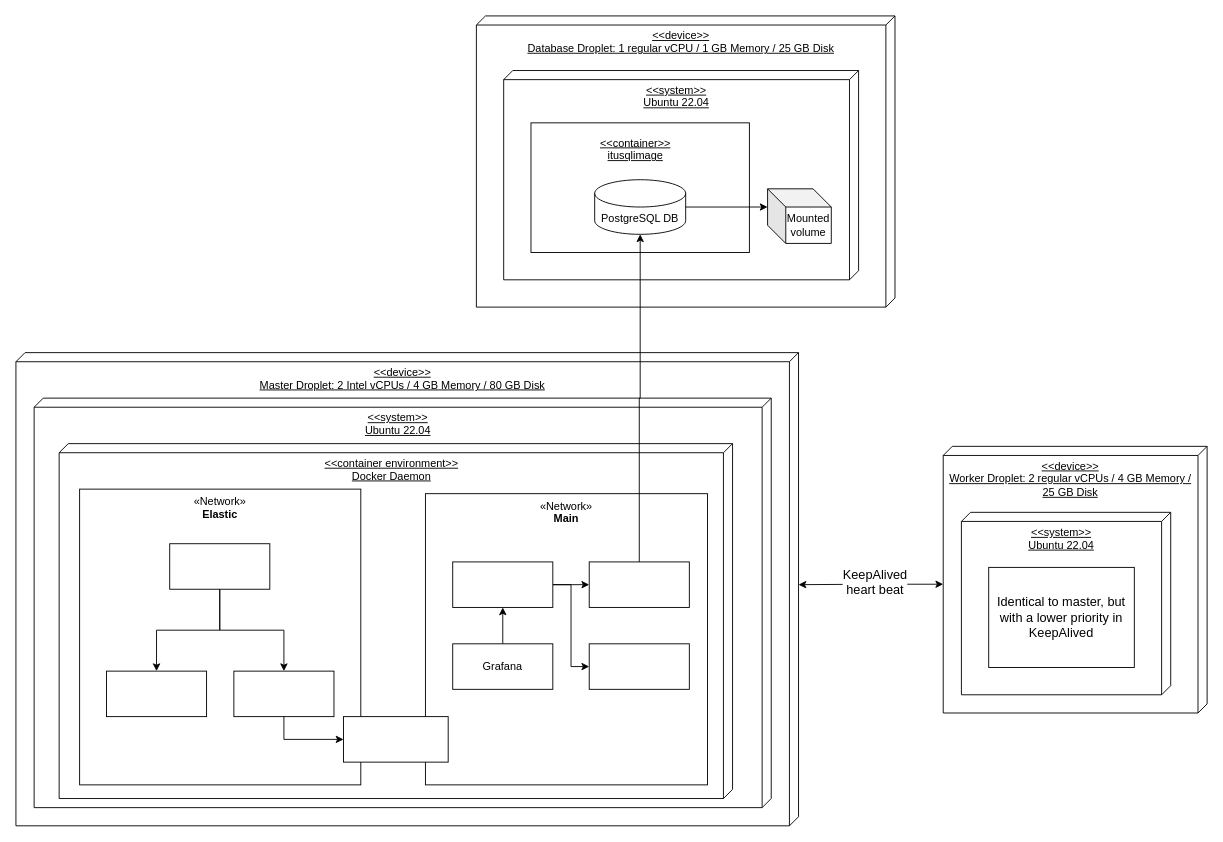
Some shapes in this 1223 by 842 pixel diagram are drawn without their labels. The shapes that lost their labels are listed below. From the top down, each one's centre as x and y in pixels, then its label:
pixel 219 566: Kibana
pixel 502 584: Prometheus
pixel 638 584: Minitwit
pixel 638 666: Cadvisor
pixel 156 693: Kibana-Importer
pixel 283 693: ElasticSearch
pixel 395 739: FileBeat
